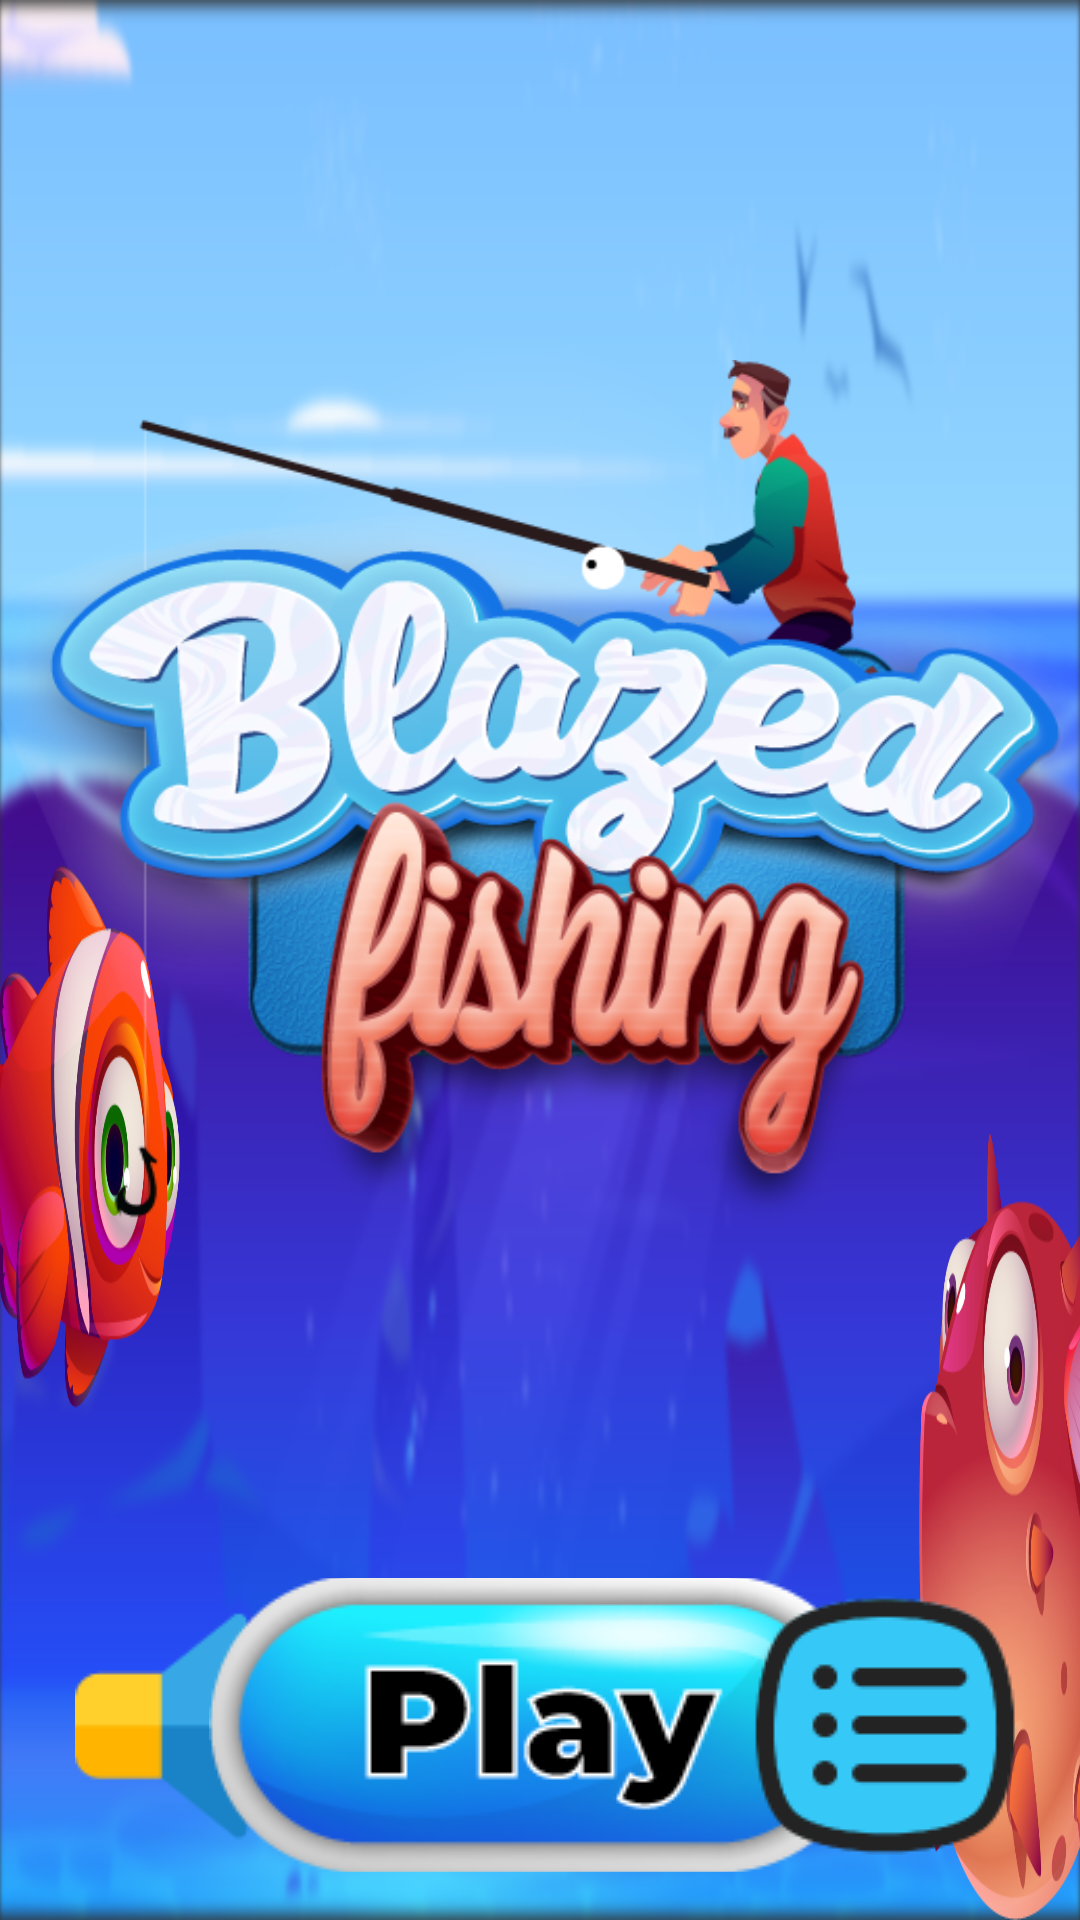

Screen size 1080px×1920px. Icon name, then its center in pixels as [x,y]:
List: [886,1726]
